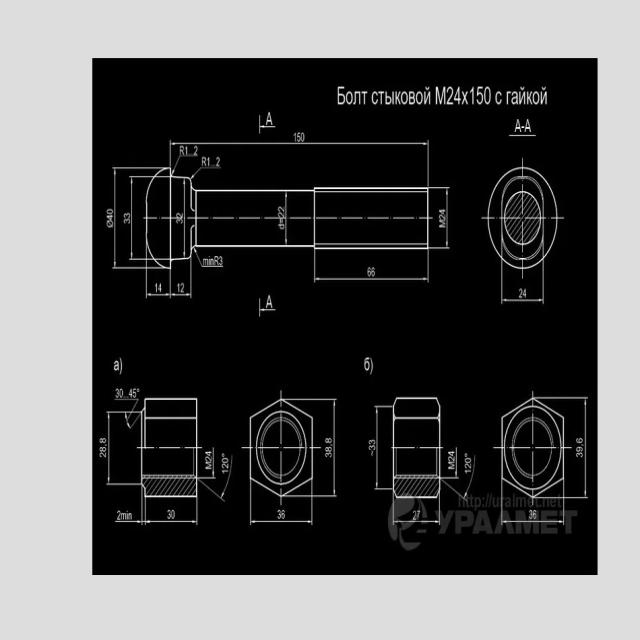marking_line: (172, 142, 428, 146), (332, 399, 338, 496), (113, 170, 118, 266), (129, 180, 135, 258), (316, 278, 427, 282), (107, 414, 112, 481), (503, 520, 564, 525), (283, 194, 289, 244), (376, 409, 379, 487), (254, 521, 312, 525), (445, 189, 449, 246), (147, 520, 196, 524), (504, 297, 543, 302), (395, 520, 438, 524), (147, 292, 170, 298), (171, 290, 190, 297), (114, 521, 141, 525)
numeric: (572, 436, 584, 459), (462, 457, 473, 476), (438, 207, 447, 230), (323, 435, 332, 458), (220, 453, 229, 475), (293, 130, 308, 142), (99, 439, 108, 458), (276, 508, 287, 521), (367, 264, 377, 278), (203, 449, 213, 463), (367, 439, 375, 456), (175, 283, 187, 294), (518, 287, 528, 300), (153, 280, 162, 294), (123, 211, 132, 225), (447, 448, 456, 462), (128, 388, 139, 399), (176, 212, 184, 227), (107, 204, 114, 221), (277, 206, 286, 219), (528, 510, 539, 520), (115, 387, 124, 399), (413, 508, 421, 521), (167, 509, 176, 520), (114, 510, 121, 521), (215, 156, 221, 167), (184, 144, 189, 156), (194, 144, 198, 156), (207, 156, 211, 167)
special_symbol: (441, 477, 470, 502), (200, 479, 228, 502), (191, 165, 212, 181), (171, 154, 186, 174), (124, 413, 140, 431)
